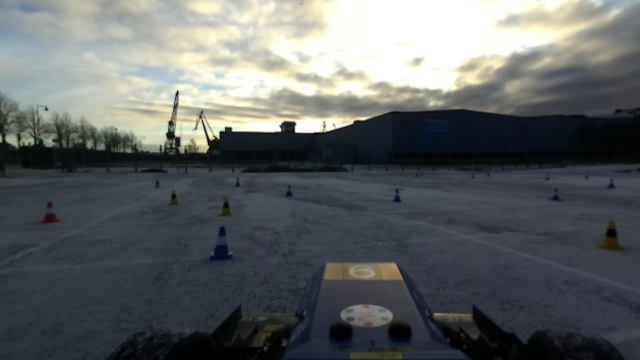blue: (208, 226, 234, 263), (548, 185, 563, 204), (390, 188, 402, 204), (284, 183, 294, 202), (605, 177, 618, 189)
orange: (35, 201, 61, 225)
yellow: (598, 220, 624, 251), (218, 198, 231, 219), (166, 189, 181, 207)
